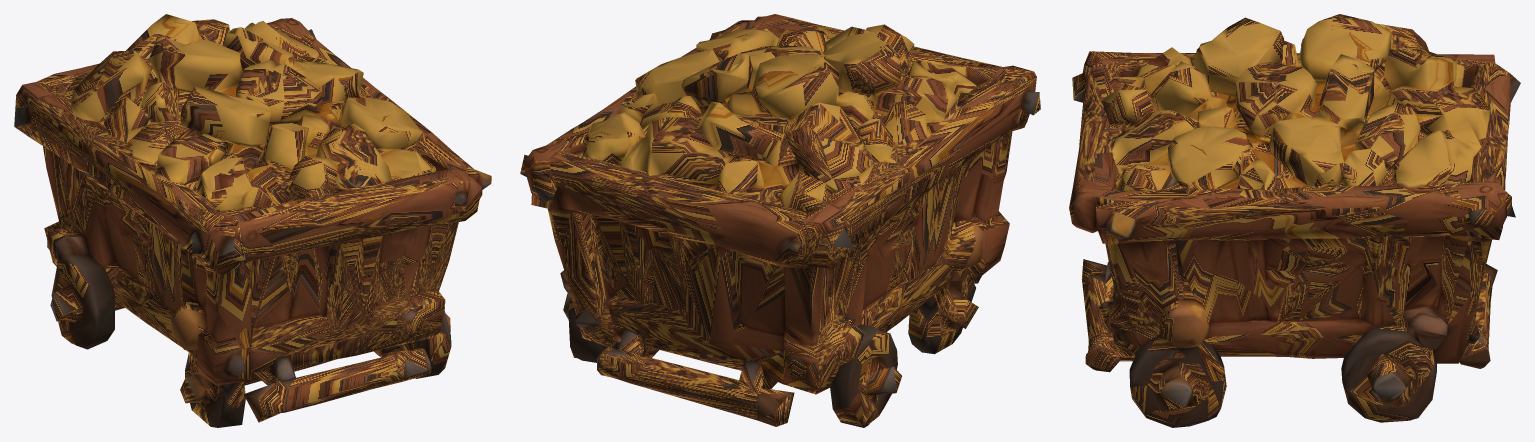
File: golden_minecart_01.glb
3 renders of one model, left to right at view 1: azimuth 30°, elevation 25°; view 2: azimuth 150°, elevation 25°; view 3: azimuth 270°, elevation 25°, orthographic. The views are drawn at different scales.
Parts seen in each view (by area): view 1: tripo_node_9161f027-ae3d-4e0f-b229-fd177d4cf495; view 2: tripo_node_9161f027-ae3d-4e0f-b229-fd177d4cf495; view 3: tripo_node_9161f027-ae3d-4e0f-b229-fd177d4cf495.
Part boxes in pixels (bbox=[...]): tripo_node_9161f027-ae3d-4e0f-b229-fd177d4cf495: bbox=[14, 14, 491, 427]; tripo_node_9161f027-ae3d-4e0f-b229-fd177d4cf495: bbox=[520, 14, 1040, 427]; tripo_node_9161f027-ae3d-4e0f-b229-fd177d4cf495: bbox=[1069, 14, 1520, 427].
Size of the model in its own units: 0.7978 by 0.776 by 0.9813.
1 material, 1 textured.
